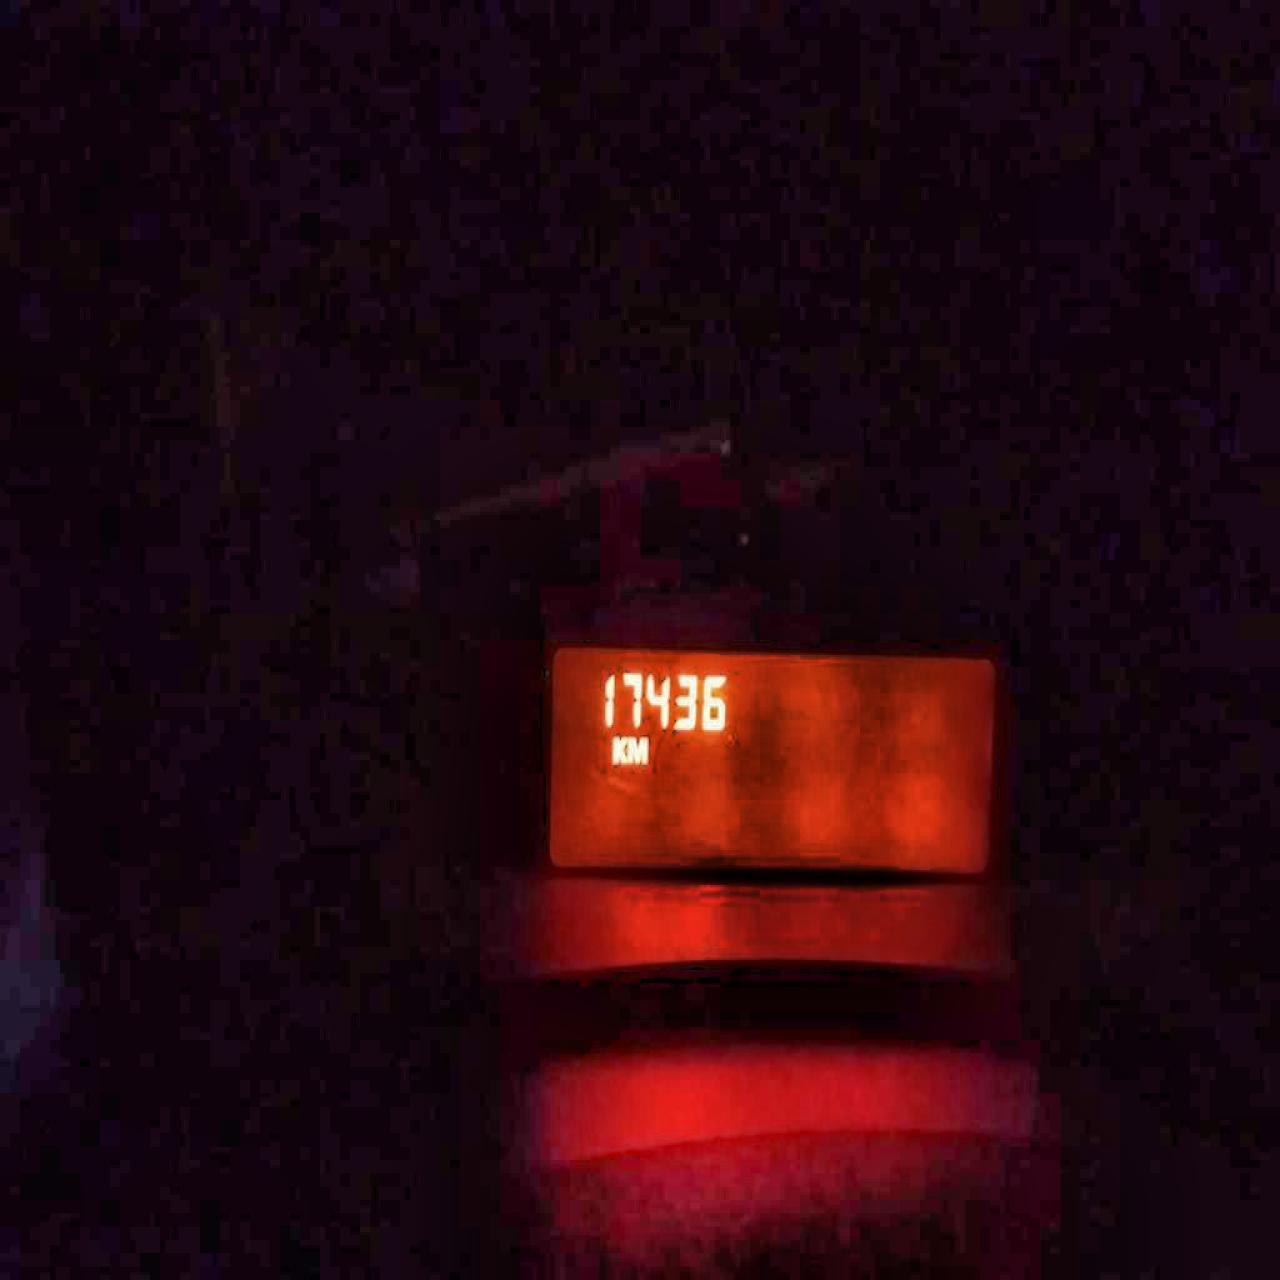1: (602, 672, 617, 728)
3: (672, 670, 696, 730)
4: (645, 670, 670, 730)
6: (700, 672, 728, 731)
7: (620, 670, 642, 727)
X: (626, 734, 648, 764), (610, 734, 626, 764)
odometer: (542, 639, 1000, 885)
